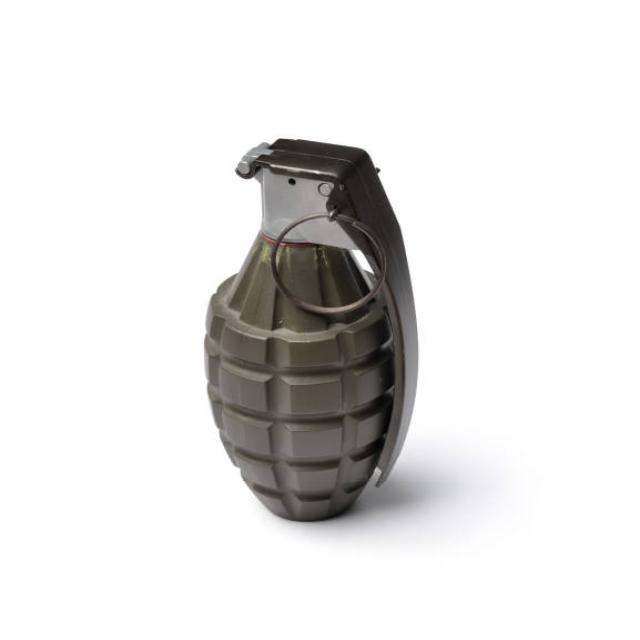grenade: (200, 130, 421, 537)
